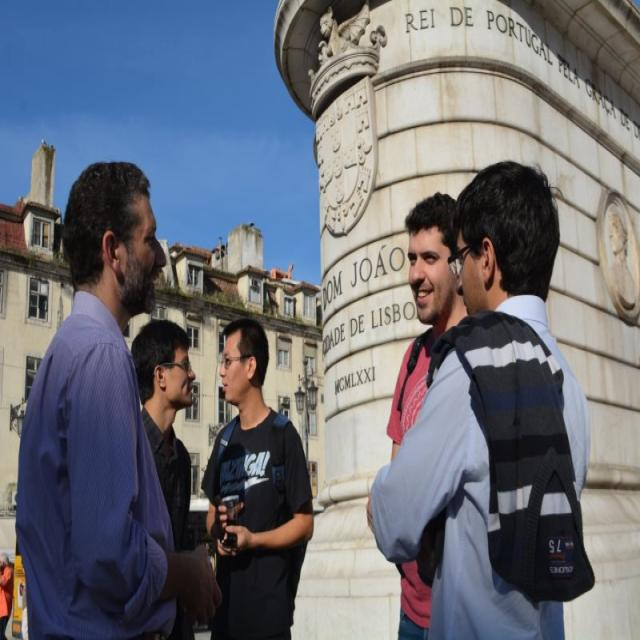body: (364, 159, 593, 640), (12, 152, 229, 639), (388, 186, 474, 640), (196, 313, 314, 640), (128, 317, 198, 638), (603, 199, 640, 319), (302, 11, 372, 57), (0, 549, 15, 640)
